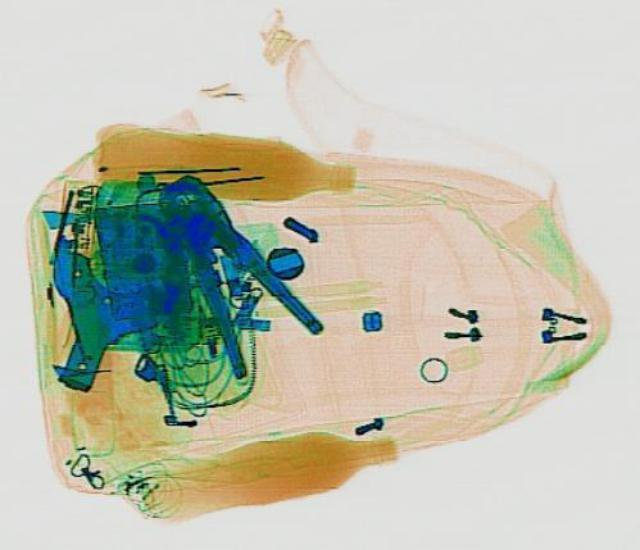Pliers: (116, 162, 330, 378)
